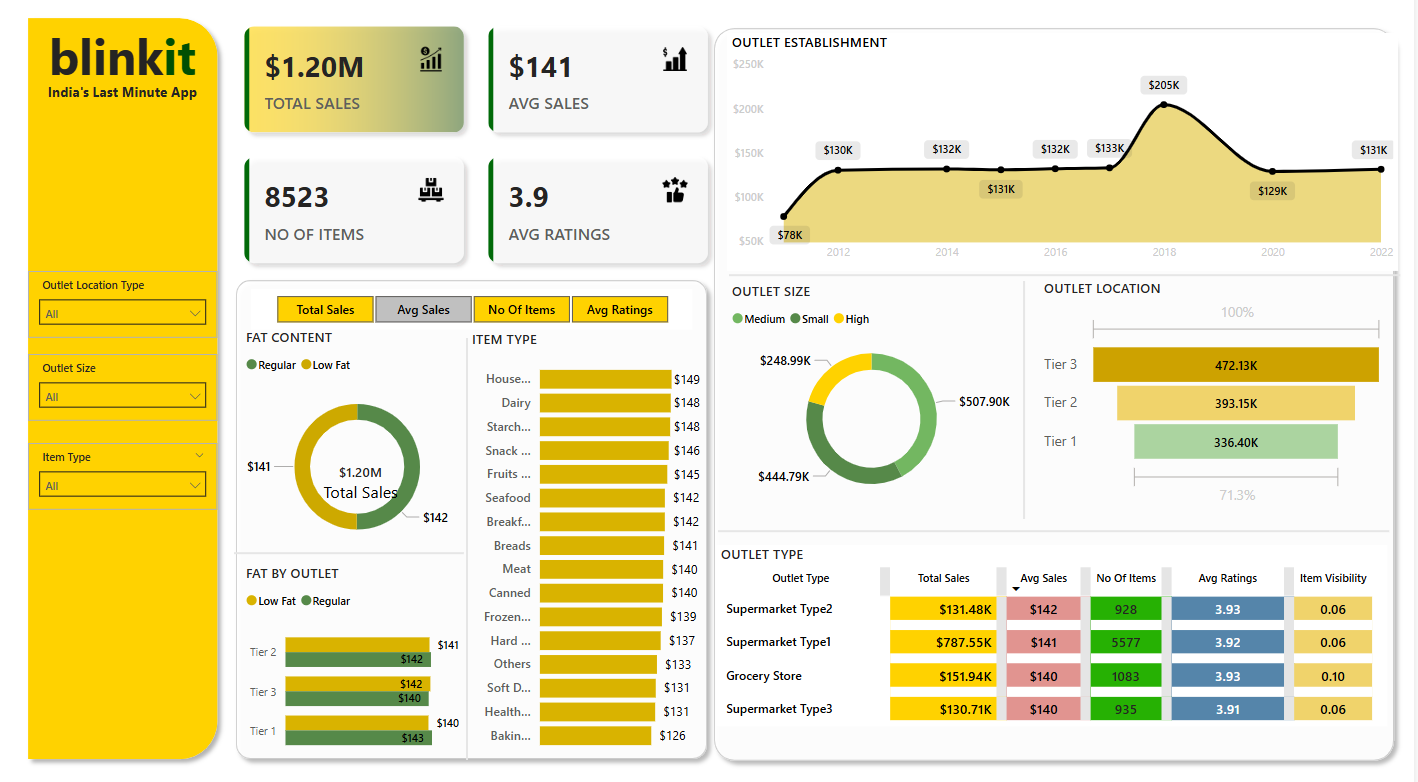

Layout of this report page (visuals, bound fields, positions):
{"tool":"powerbi","page":{"name":"Page 1","canvas":[1400,800],"ordinal":0},"visuals":[{"type":"shape","box":[22.3,24.5,205.3,750],"z":0},{"type":"textbox","box":[31.6,32.6,186.7,75.1],"z":1000},{"type":"textbox","box":[31.6,92.8,186.7,28.6],"z":2000},{"type":"cardVisual","fields":{"Data":["BlinkIT Grocery Data.Total Sales","BlinkIT Grocery Data.Average Sales","BlinkIT Grocery Data.Number Of Items","BlinkIT Grocery Data.Average Ratings"]},"box":[228.1,24.7,493.8,269.6],"z":3000},{"type":"shape","box":[228.1,283.5,483,490.9],"z":4000},{"type":"slicer","fields":{"Values":["Metrics.Metrics"]},"box":[251.9,301.2,435.6,40.5],"z":5000},{"type":"donutChart","title":"FAT CONTENT","fields":{"Y":["BlinkIT Grocery Data.Total Sales"],"Category":["BlinkIT Grocery Data.Item Fat Content"]},"box":[241.5,339.6,230.2,230.2],"z":6000},{"type":"cardVisual","fields":{"Data":["BlinkIT Grocery Data.Total Sales"]},"box":[305.2,454.3,110.6,75.1],"z":7000},{"type":"clusteredBarChart","title":"FAT BY OUTLET","fields":{"Y":["BlinkIT Grocery Data.Total Sales"],"Category":["BlinkIT Grocery Data.Outlet Location Type"],"Series":["BlinkIT Grocery Data.Item Fat Content"]},"box":[241.5,572.6,220.8,200.9],"z":8000},{"type":"shape","box":[234.9,549.1,227.4,26.4],"z":9000},{"type":"shape","box":[455.3,349.6,19.8,416.8],"z":10000},{"type":"barChart","title":"ITEM TYPE","fields":{"Y":["BlinkIT Grocery Data.Total Sales"],"Category":["BlinkIT Grocery Data.Item Type"]},"box":[465.2,341.7,235.1,424.7],"z":11000},{"type":"shape","box":[700,34.9,689.6,741.5],"z":12000},{"type":"lineChart","title":"OUTLET ESTABLISHMENT","fields":{"Category":["BlinkIT Grocery Data.Outlet Establishment Year"],"Y":["BlinkIT Grocery Data.Total Sales"]},"box":[721.7,48.1,663.2,234.9],"z":13000},{"type":"shape","box":[723.6,274.5,663.2,26.4],"z":14000},{"type":"donutChart","title":"OUTLET SIZE","fields":{"Y":["BlinkIT Grocery Data.Total Sales"],"Category":["BlinkIT Grocery Data.Outlet Size"]},"box":[722.1,294.3,285.9,226],"z":15000},{"type":"shape","box":[997.4,293.2,35.7,235.4],"z":16000},{"type":"funnel","title":"OUTLET LOCATION","fields":{"Category":["BlinkIT Grocery Data.Outlet Location Type"],"Y":["Sum(BlinkIT Grocery Data.Sales)"]},"box":[1030,291.1,345.8,228.1],"z":17000},{"type":"shape","box":[712.6,527.6,663.2,26.3],"z":18000},{"type":"pivotTable","title":"OUTLET TYPE","fields":{"Rows":["BlinkIT Grocery Data.Outlet Type"],"Values":["BlinkIT Grocery Data.Total Sales","BlinkIT Grocery Data.Avg Sales","BlinkIT Grocery Data.No Of Items","BlinkIT Grocery Data.Avg Ratings","Avg(BlinkIT Grocery Data.Item Visibility)"]},"box":[711.6,553.9,663.2,178.7],"z":19000},{"type":"slicer","fields":{"Values":["BlinkIT Grocery Data.Outlet Location Type"]},"box":[31.5,283.8,187.1,66.2],"z":19001},{"type":"slicer","fields":{"Values":["BlinkIT Grocery Data.Outlet Size"]},"box":[31.5,365.8,187.1,66.2],"z":19002},{"type":"slicer","fields":{"Values":["BlinkIT Grocery Data.Item Type"]},"box":[31.5,453,187.1,66.2],"z":19003}]}

Visuals, with their boxes on the page's 1400x800 design canvas (x1, y1, x2, y2). These are canvas units, not pixel positions in the 1418x782 screenshot, which may show the page scaled, cropped or inside an application window:
shape: {"left": 22, "top": 24, "right": 228, "bottom": 774}
textbox: {"left": 32, "top": 33, "right": 218, "bottom": 108}
textbox: {"left": 32, "top": 93, "right": 218, "bottom": 121}
cardVisual - BlinkIT Grocery Data.Total Sales x BlinkIT Grocery Data.Average Sales: {"left": 228, "top": 25, "right": 722, "bottom": 294}
shape: {"left": 228, "top": 284, "right": 711, "bottom": 774}
slicer - Metrics.Metrics: {"left": 252, "top": 301, "right": 688, "bottom": 342}
"FAT CONTENT" donutChart: {"left": 242, "top": 340, "right": 472, "bottom": 570}
cardVisual - BlinkIT Grocery Data.Total Sales: {"left": 305, "top": 454, "right": 416, "bottom": 529}
"FAT BY OUTLET" clusteredBarChart: {"left": 242, "top": 573, "right": 462, "bottom": 774}
shape: {"left": 235, "top": 549, "right": 462, "bottom": 576}
shape: {"left": 455, "top": 350, "right": 475, "bottom": 766}
"ITEM TYPE" barChart: {"left": 465, "top": 342, "right": 700, "bottom": 766}
shape: {"left": 700, "top": 35, "right": 1390, "bottom": 776}
"OUTLET ESTABLISHMENT" lineChart: {"left": 722, "top": 48, "right": 1385, "bottom": 283}
shape: {"left": 724, "top": 274, "right": 1387, "bottom": 301}
"OUTLET SIZE" donutChart: {"left": 722, "top": 294, "right": 1008, "bottom": 520}
shape: {"left": 997, "top": 293, "right": 1033, "bottom": 529}
"OUTLET LOCATION" funnel: {"left": 1030, "top": 291, "right": 1376, "bottom": 519}
shape: {"left": 713, "top": 528, "right": 1376, "bottom": 554}
"OUTLET TYPE" pivotTable: {"left": 712, "top": 554, "right": 1375, "bottom": 733}
slicer - BlinkIT Grocery Data.Outlet Location Type: {"left": 32, "top": 284, "right": 219, "bottom": 350}
slicer - BlinkIT Grocery Data.Outlet Size: {"left": 32, "top": 366, "right": 219, "bottom": 432}
slicer - BlinkIT Grocery Data.Item Type: {"left": 32, "top": 453, "right": 219, "bottom": 519}
